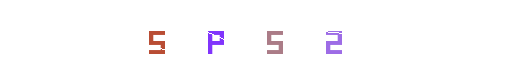2: (237, 0, 317, 80)
P: (225, 0, 305, 80)
S: (116, 0, 196, 80), (234, 0, 314, 80)
